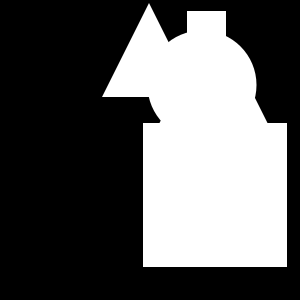circle: (143, 123, 287, 267), (187, 11, 226, 50)
rectangle: (148, 30, 256, 140)
triangle: (144, 15, 283, 154), (102, 3, 196, 97)
